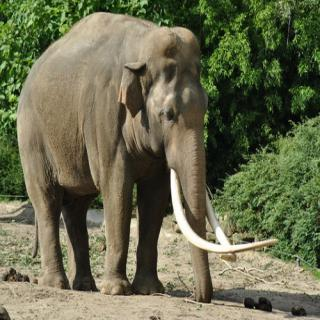Elephant: (13, 7, 283, 310)
